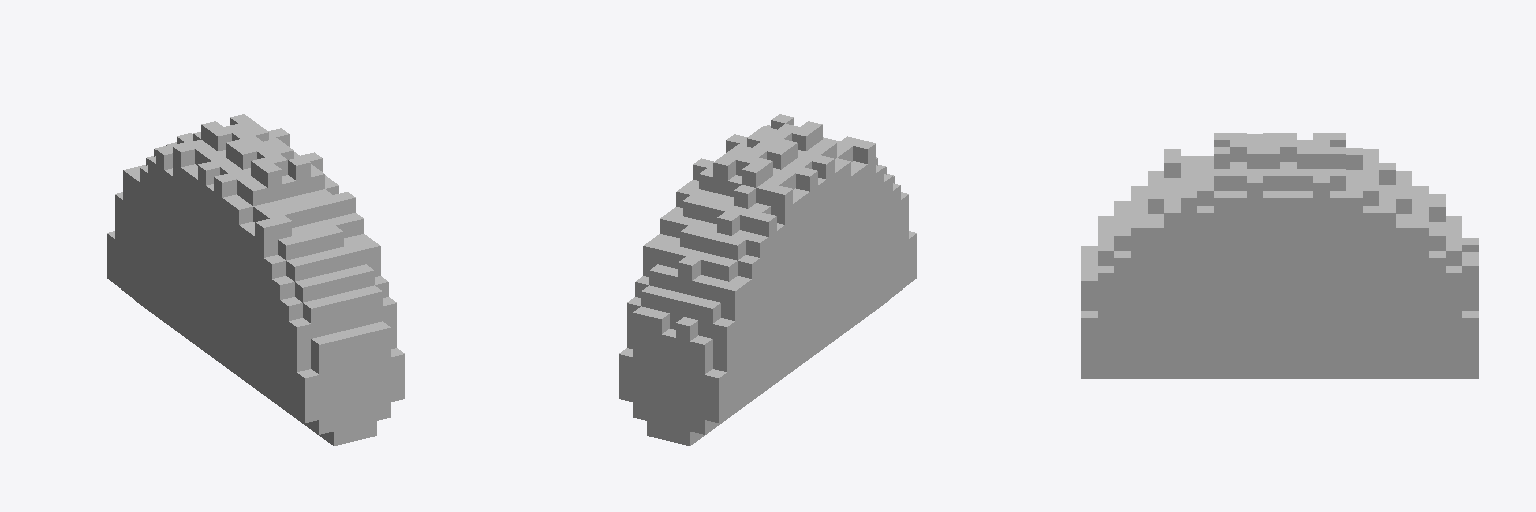
Rendered from Taco.obj.
The picture shows the model from 3 angles: view 1: azimuth 30°, elevation 25°; view 2: azimuth 150°, elevation 25°; view 3: azimuth 270°, elevation 25°; orthographic projection.
Visible parts, largest first — view 1: object 1; view 2: object 1; view 3: object 1.
Boxes of the visible parts, box(x1,y1,x2,y2) form: object 1: box(107, 114, 404, 445); object 1: box(619, 114, 916, 445); object 1: box(1081, 133, 1478, 378).
Bounding box in the file's own units: 0.7 × 1.5 × 2.4.